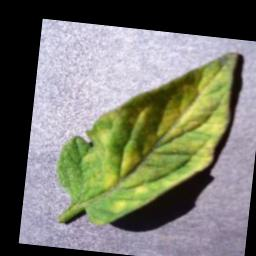Leaf_Mold: (52, 35, 238, 239)
